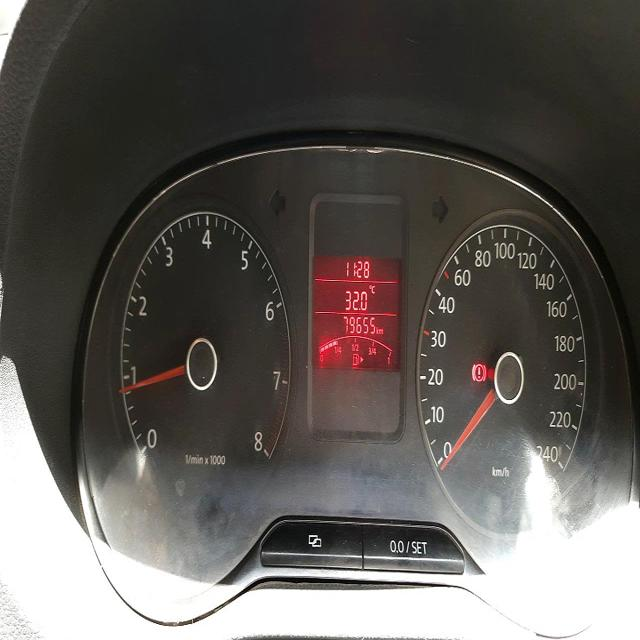odometer: (340, 312, 376, 336)
